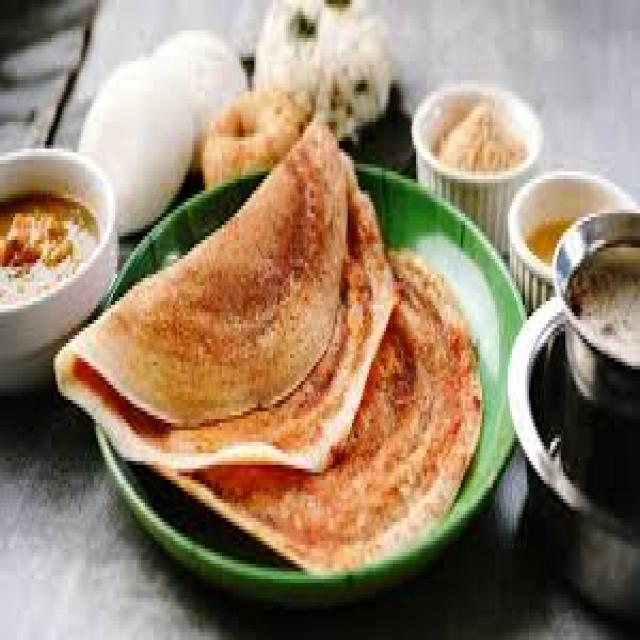DOSA: (53, 120, 397, 468), (152, 249, 482, 572), (130, 227, 182, 325)
